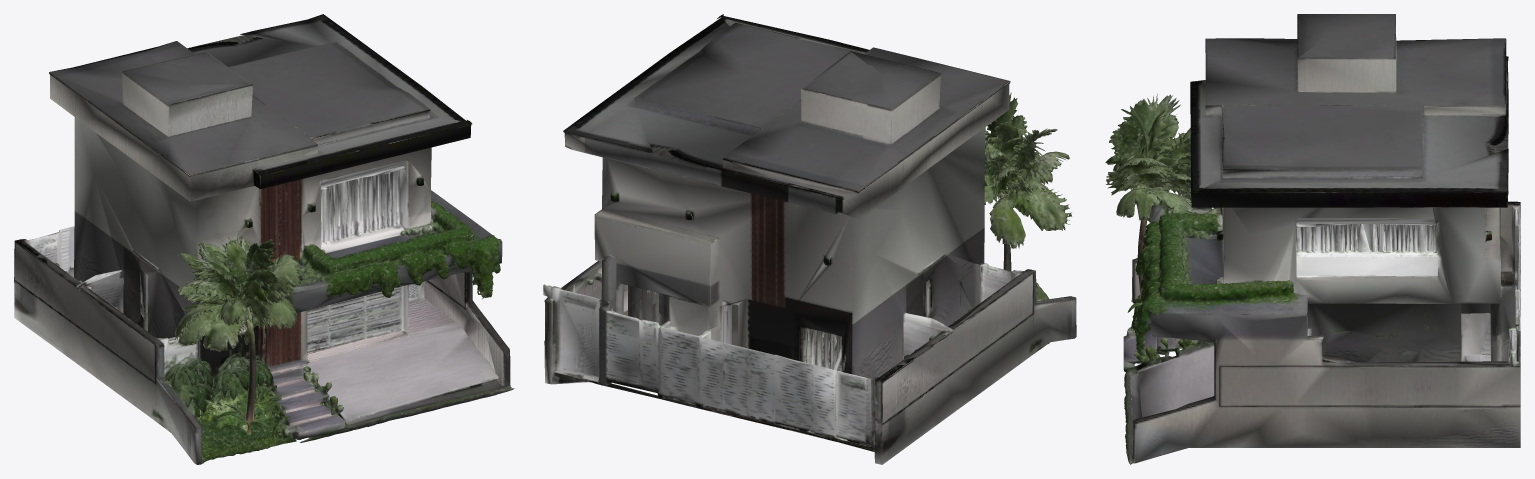
Rendered from casa_inteira_por_fora.glb.
3 views of the same model, side by side, from view 1: azimuth 30°, elevation 25°; view 2: azimuth 150°, elevation 25°; view 3: azimuth 270°, elevation 25° (orthographic). The views are drawn at different scales.
Parts seen in each view (by area): view 1: Mesh1.0; view 2: Mesh1.0; view 3: Mesh1.0.
Boxes of the visible parts, <box> form: Mesh1.0: <box>14,14,514,464</box>; Mesh1.0: <box>543,14,1076,464</box>; Mesh1.0: <box>1105,14,1520,464</box>.
Size of the model in its own units: 1.83 by 1.57 by 1.89.
1 material, 1 textured.
